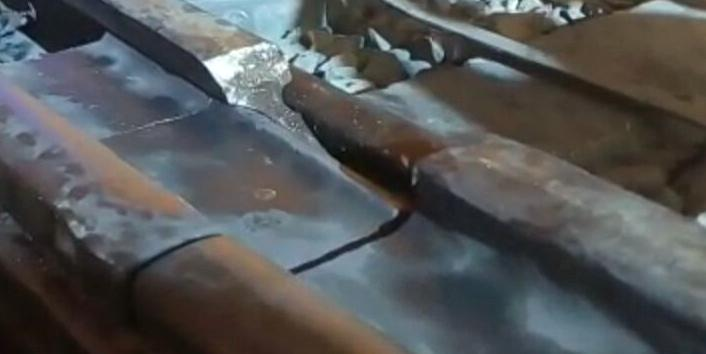error2: (91, 115, 530, 300)
